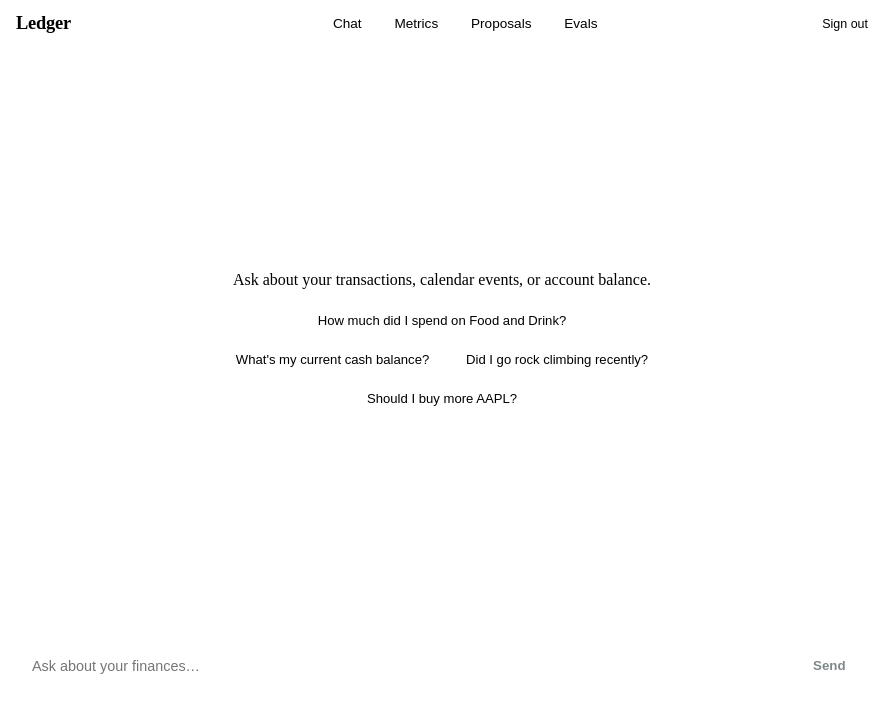
Test: sign-in › returns to the sign-in screen when the session is rejected
Type "Hi" into the field named "Message" at (398, 666), box [16, 647, 781, 685]
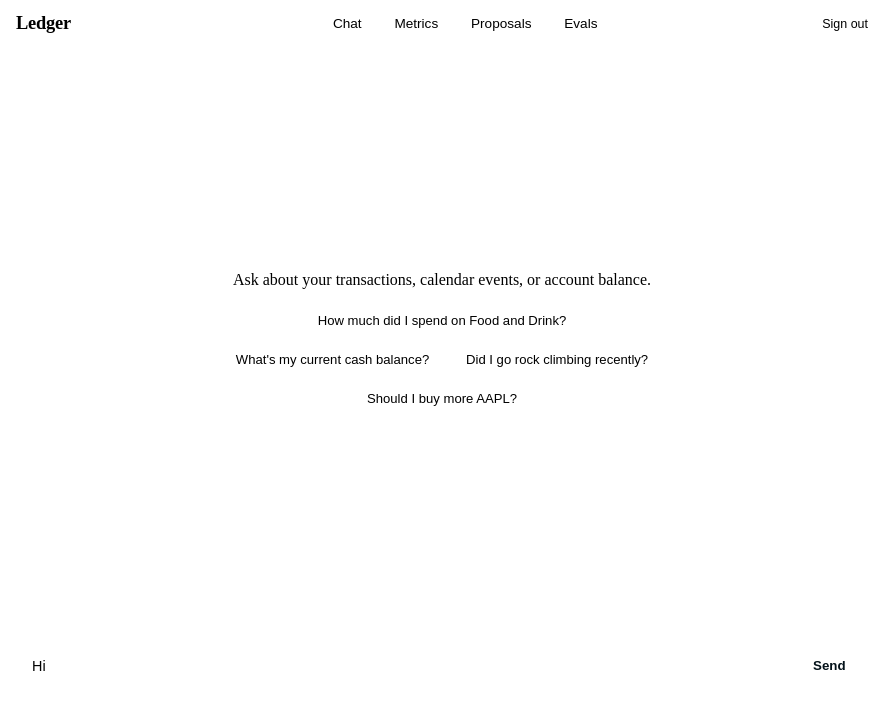
Click the button "Send" at (829, 666), box [791, 647, 868, 685]
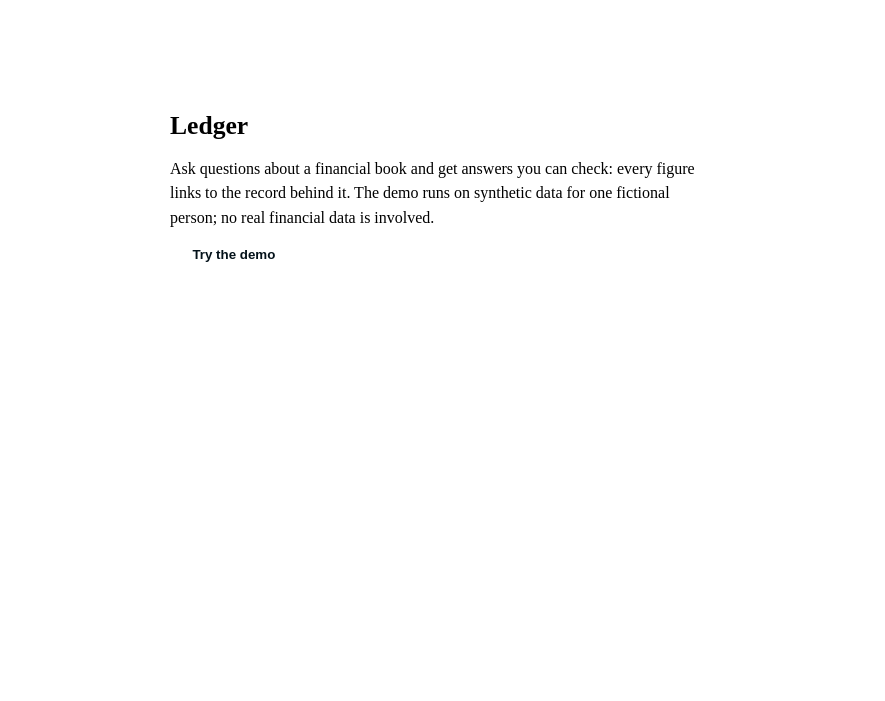
Now the button "Try the demo" is shown, box [170, 247, 298, 262]
